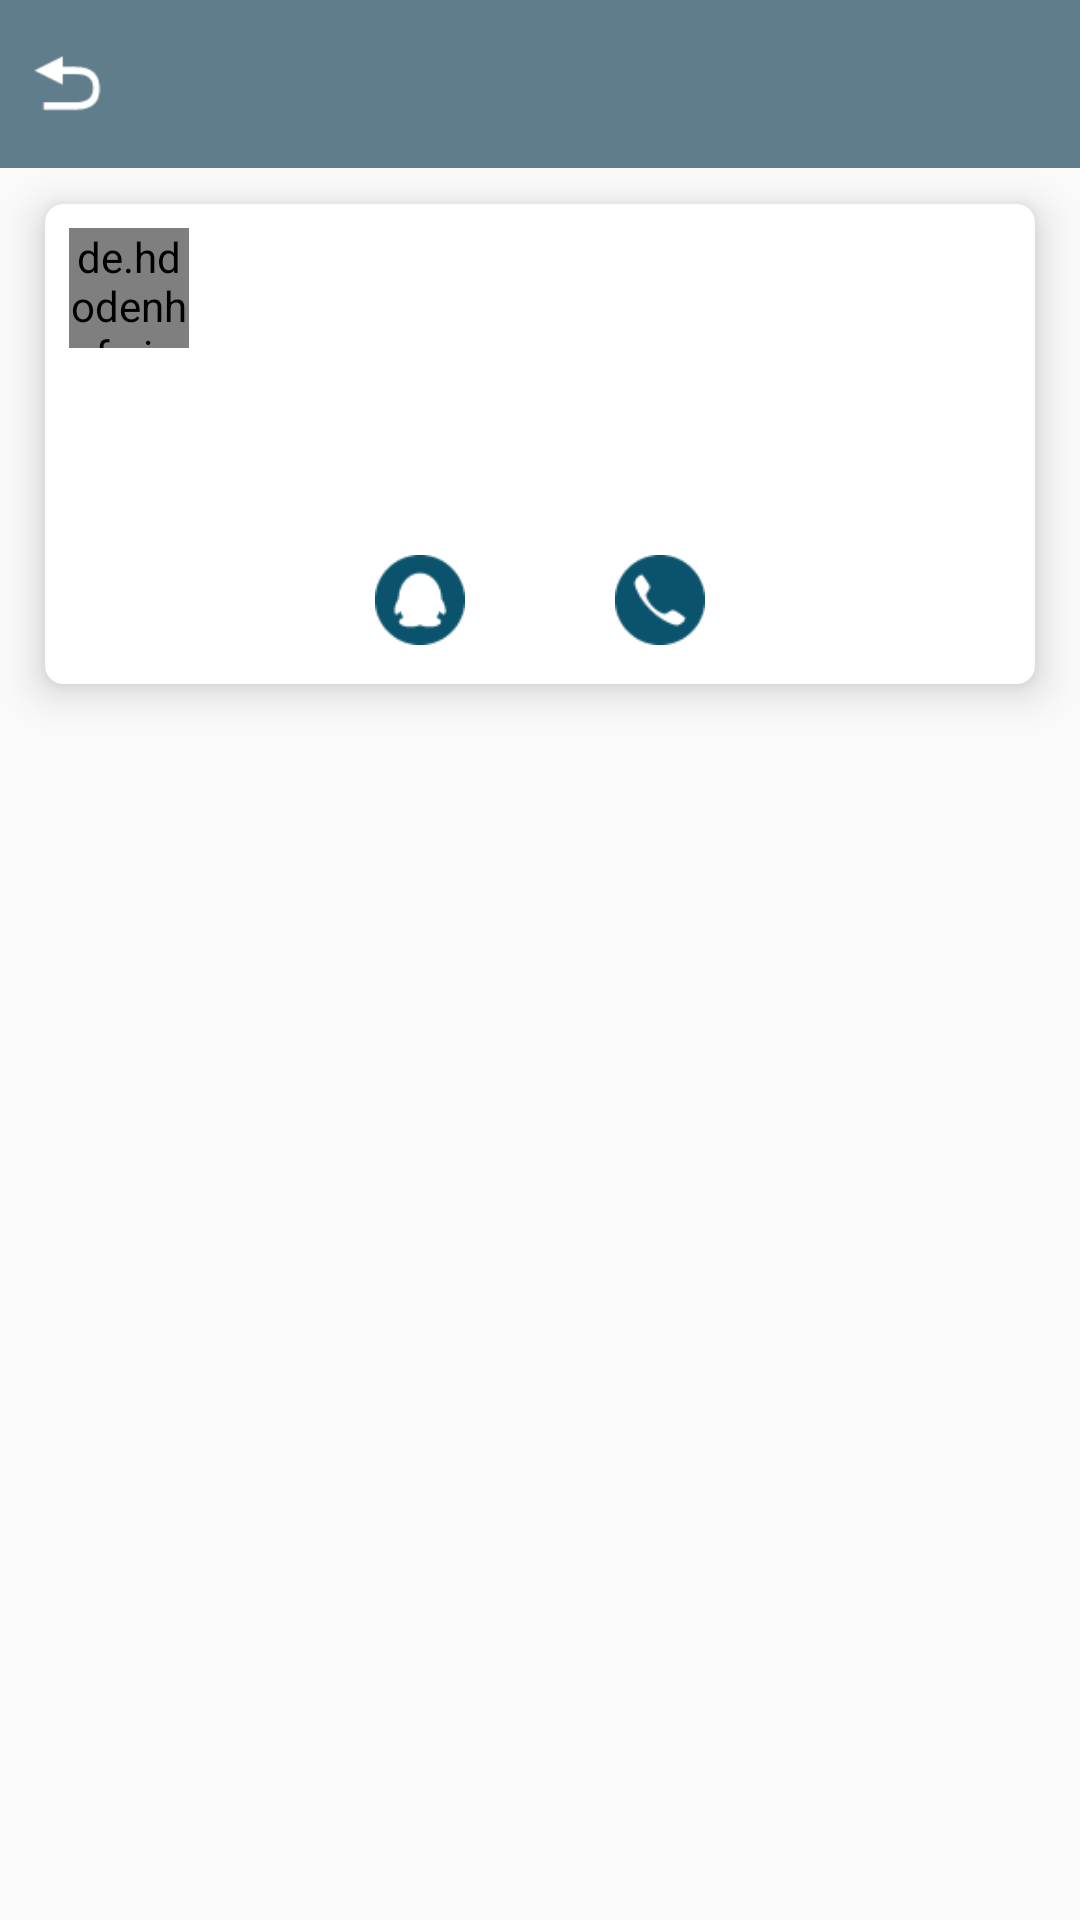

Point at icon controls on the screen. Image size 1080 × 1920, points as (x,y).
back: (67,83)
phone: (660,600)
